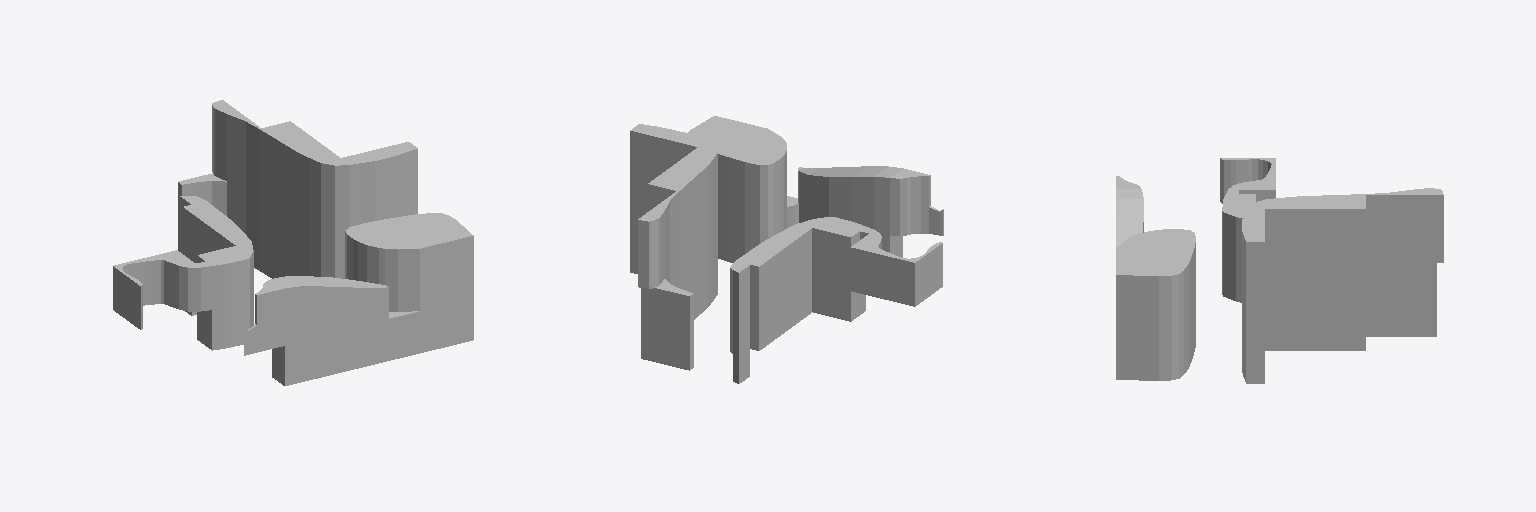
Rendered from keep1export.obj.
The picture shows the model from 3 angles: view 1: azimuth 30°, elevation 25°; view 2: azimuth 150°, elevation 25°; view 3: azimuth 270°, elevation 25°; orthographic projection.
Parts seen in each view (by area): view 1: entity3_brush44, entity1_brush0, entity3_brush0, entity5_brush50, entity2_brush103, entity2_brush10, entity2_brush111, entity5_brush73, entity1_brush34, entity5_brush77, entity5_brush75, entity4_brush0 (+13 smaller); view 2: entity1_brush0, entity5_brush0, entity4_brush27, entity1_brush34, entity3_brush60, entity3_brush54, entity1_brush35, entity5_brush77, entity1_brush32, entity5_brush78, entity3_brush43, entity1_brush28 (+8 smaller); view 3: entity2_brush103, entity2_brush4, entity4_brush0, entity2_brush82, entity2_brush61, entity3_brush38, entity4_brush11, entity4_brush24, entity4_brush27, entity3_brush36, entity3_brush37, entity3_brush43 (+21 smaller).
Part boxes in pixels (x1,y1,x2,y2): entity3_brush44: (321,177,349,215); entity1_brush0: (263,279,284,348); entity3_brush0: (321,213,349,253); entity5_brush50: (207,251,253,282); entity2_brush103: (430,219,473,260); entity2_brush10: (385,322,419,354); entity2_brush111: (393,224,437,268); entity5_brush73: (168,250,200,311); entity1_brush34: (287,276,320,314); entity5_brush77: (142,256,160,304); entity5_brush75: (158,254,178,308); entity4_brush0: (227,164,245,208); entity1_brush0: (890,168,916,235); entity5_brush0: (798,219,860,253); entity4_brush27: (638,231,659,288); entity1_brush34: (853,166,887,204); entity3_brush60: (648,176,688,204); entity3_brush54: (630,144,649,184); entity1_brush35: (829,166,866,199); entity5_brush77: (873,248,890,299); entity1_brush32: (874,166,902,207); entity5_brush78: (887,254,901,302); entity3_brush43: (630,181,647,219); entity1_brush28: (911,172,923,233); entity2_brush103: (1116,264,1158,296); entity2_brush4: (1116,348,1158,372); entity4_brush0: (1388,245,1411,282); entity2_brush82: (1116,295,1158,317); entity2_brush61: (1116,316,1158,338); entity3_brush38: (1343,259,1365,296); entity4_brush11: (1388,209,1411,244); entity4_brush24: (1412,209,1427,262); entity4_brush27: (1428,209,1443,262); entity3_brush36: (1299,259,1320,296); entity3_brush37: (1321,259,1342,296); entity3_brush43: (1243,285,1264,329).
Size of the model in its own units: 1440 by 800 by 1408.